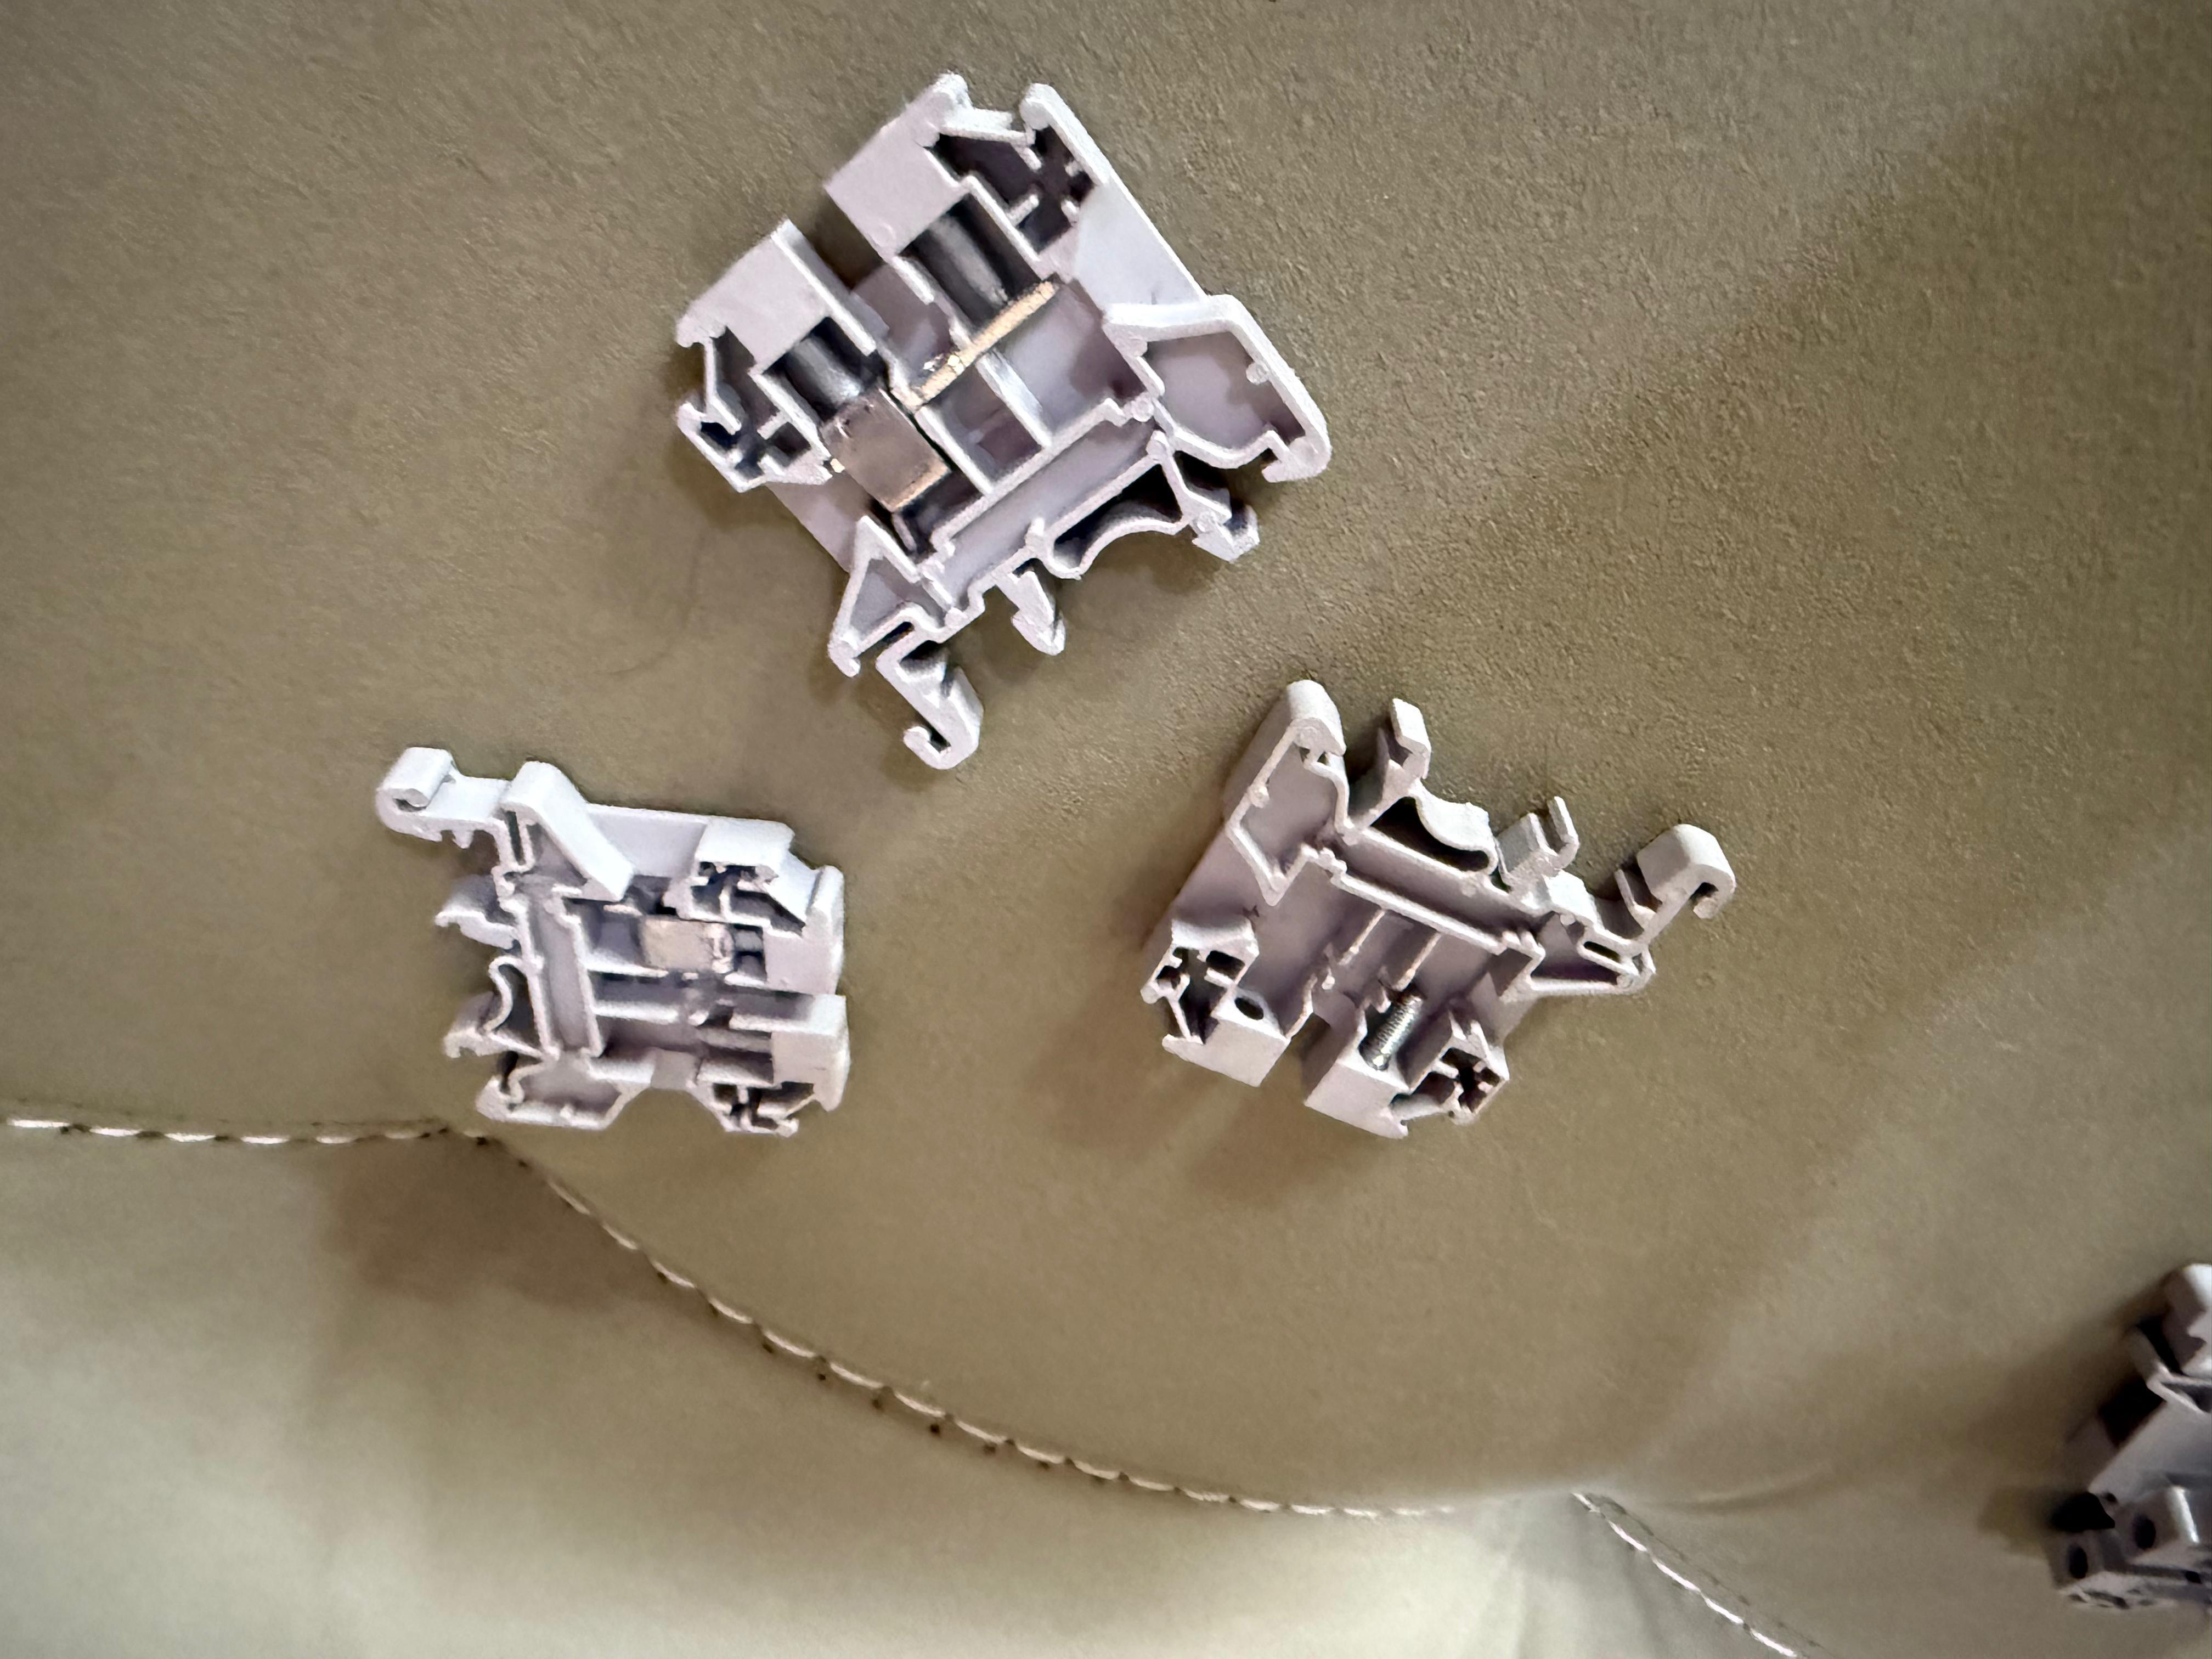Reject: (648, 49, 1346, 775), (1122, 659, 1743, 1157), (364, 725, 855, 1141)
